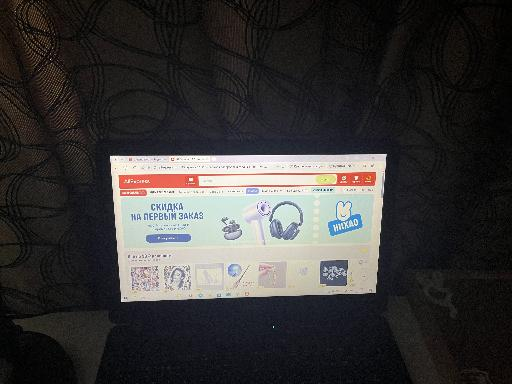aliexpress: (119, 171, 377, 294)
